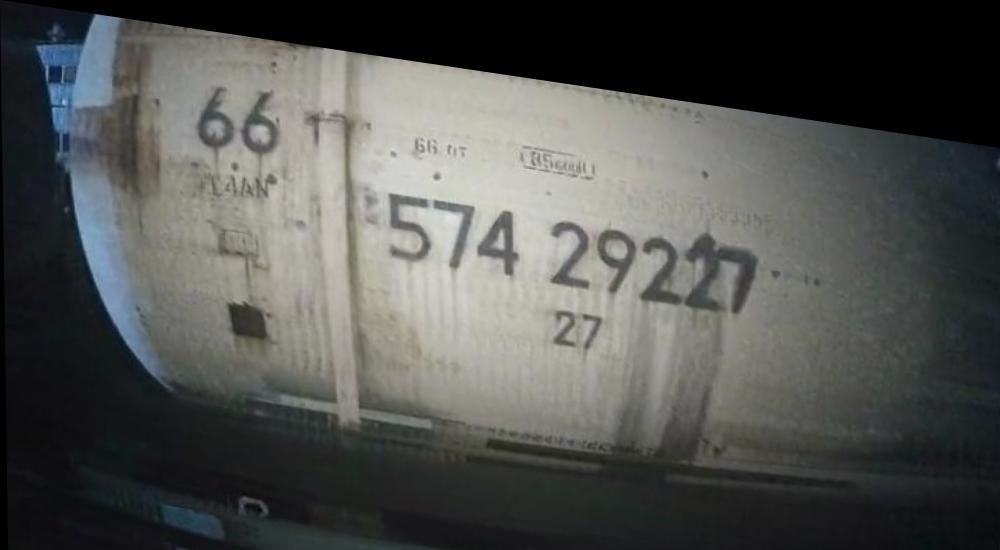Wagon-number: (382, 173, 761, 304)
